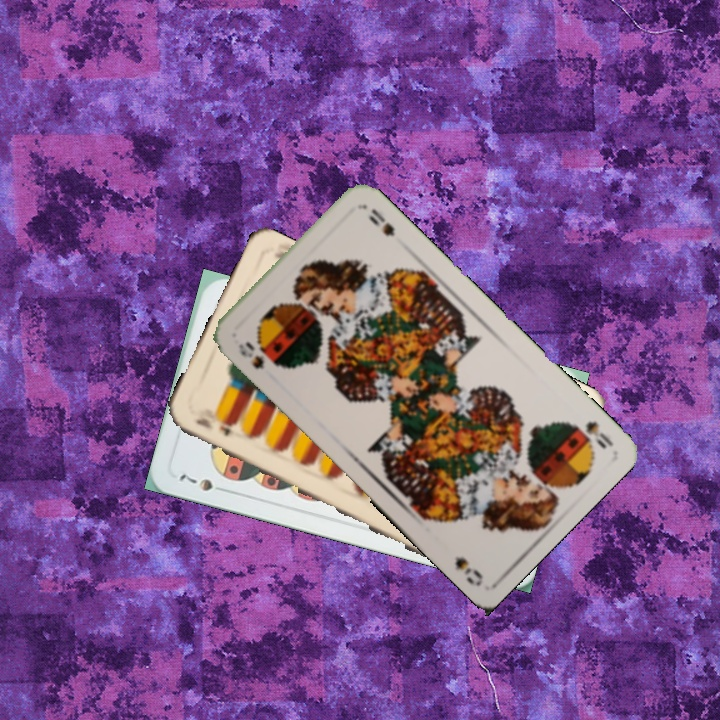E10: (191, 413, 234, 439)
S7: (175, 466, 230, 495)
SO: (570, 416, 616, 452), (234, 337, 280, 372)
